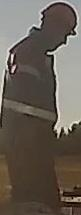helmet: (39, 2, 78, 37)
vest: (0, 43, 56, 161)
